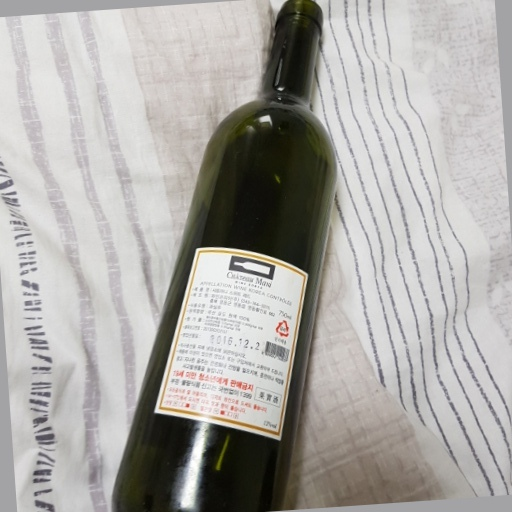Glass_2: (113, 1, 347, 512)
